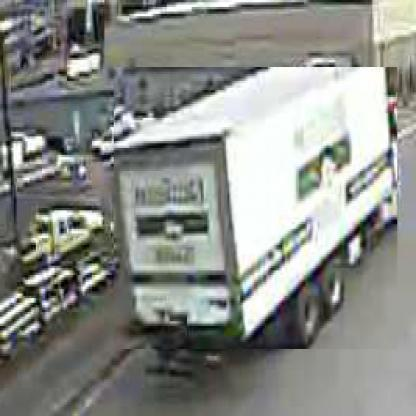truck: (113, 68, 398, 352)
